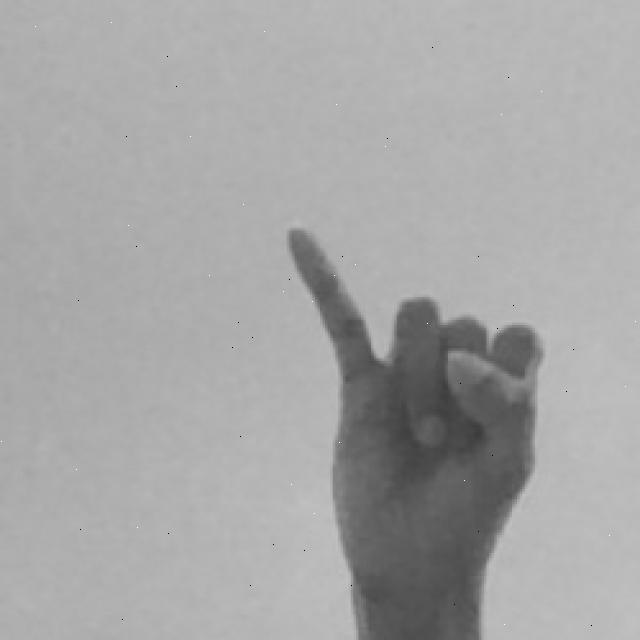I: (281, 216, 558, 640)
